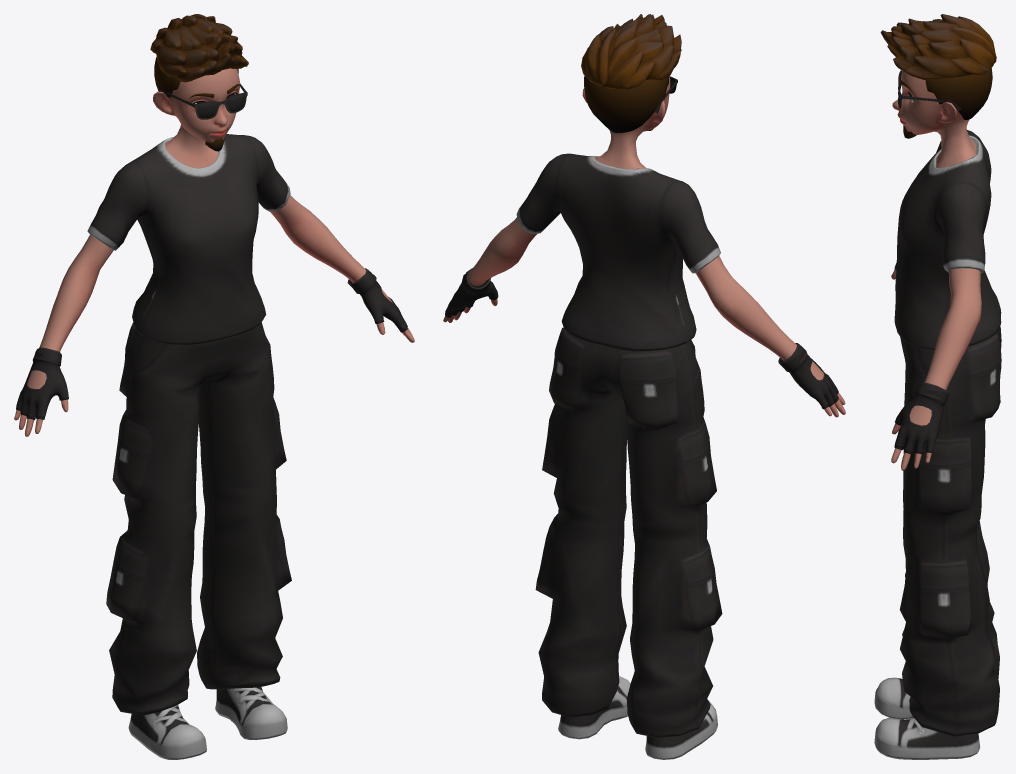
The model's file is Teenage Boy_Mesh.obj.
3 views of the same model, side by side, from view 1: azimuth 30°, elevation 25°; view 2: azimuth 150°, elevation 25°; view 3: azimuth 270°, elevation 25° (orthographic).
Visible parts, largest first — view 1: Teenage Boy_Mesh_0; view 2: Teenage Boy_Mesh_0; view 3: Teenage Boy_Mesh_0.
Part boxes in pixels (x1,y1,x2,y2): Teenage Boy_Mesh_0: [14, 14, 414, 759]; Teenage Boy_Mesh_0: [443, 14, 845, 759]; Teenage Boy_Mesh_0: [874, 14, 1001, 759].
Size of the model in its own units: 1.06 by 1.84 by 0.2974.
1 material, 1 textured.
